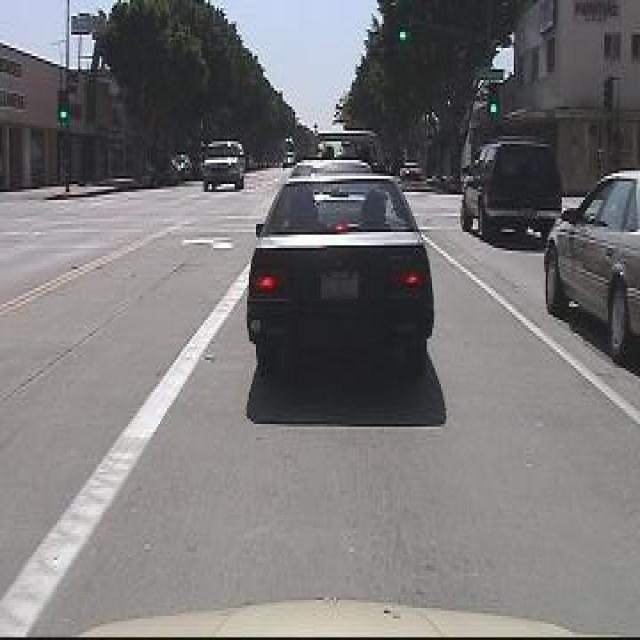car_back: (243, 173, 445, 364), (454, 131, 569, 256)
car_front: (197, 132, 245, 209)
